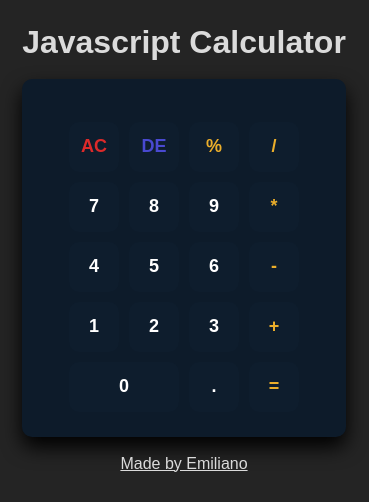
Scenario: Calculadora › clear y delete funcionan
Click the button "1" at (94,326), box x1=69 y1=302 x2=119 y2=352
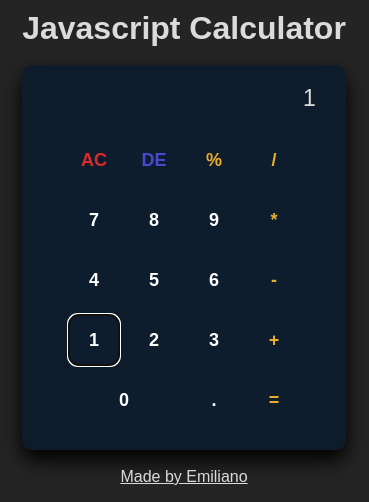
Click the button "2" at (154,340), box x1=129 y1=315 x2=179 y2=365
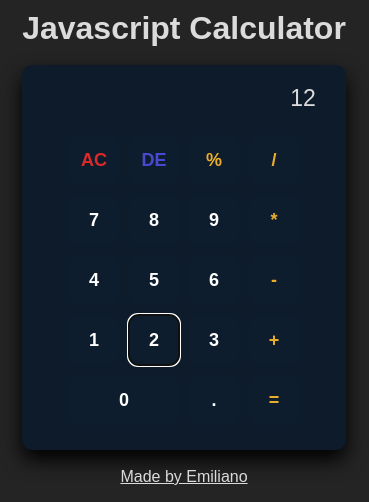
Click the button "DE" at (154,160), box x1=129 y1=135 x2=179 y2=185
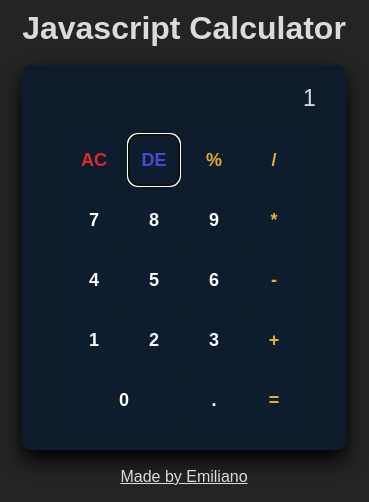
expect the text with test id "expression" reads "1": met, box x1=303 y1=85 x2=316 y2=111
Click the button "AC" at (94,160), box x1=69 y1=135 x2=119 y2=185
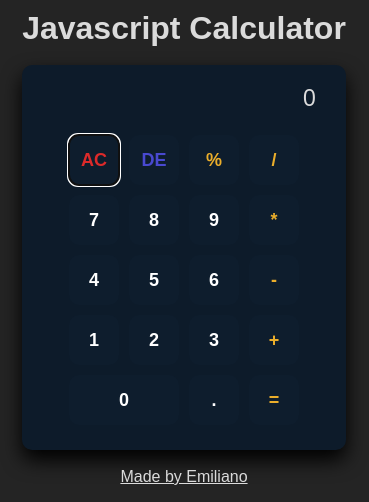
expect the text with test id "expression" reads "0": met, box x1=303 y1=85 x2=316 y2=111
